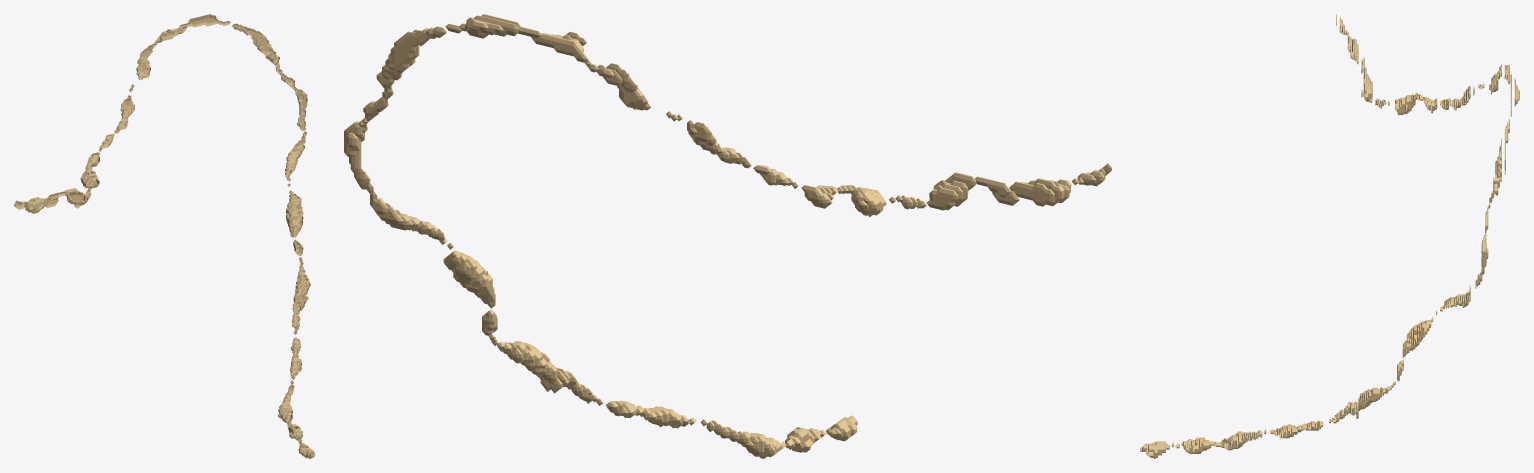
The model's file is SVV_AVDL.gltf.
The picture shows the model from 3 angles, left to right: view 1: azimuth 30°, elevation 25°; view 2: azimuth 150°, elevation 25°; view 3: azimuth 270°, elevation 25°; orthographic projection. The views are drawn at different scales.
Parts seen in each view (by area): view 1: AVDL; view 2: AVDL; view 3: AVDL.
Boxes of the visible parts, left/top/right/bottom form: AVDL: left=14, top=14, right=315, bottom=458; AVDL: left=344, top=14, right=1111, bottom=458; AVDL: left=1140, top=14, right=1519, bottom=458.
Size of the model in its own units: 97330 by 85538 by 74269.
